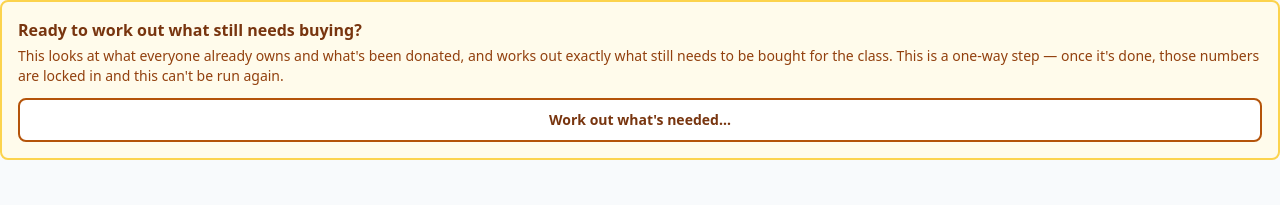
ReconcileAction › shows a clear message on the already-reconciled 409, and doesn't call onReconciled
What coordinates should you click on to do the following:
click the button "Work out what's needed…"
I would click on:
 (640, 120)
Its box is [18,98,1262,142].
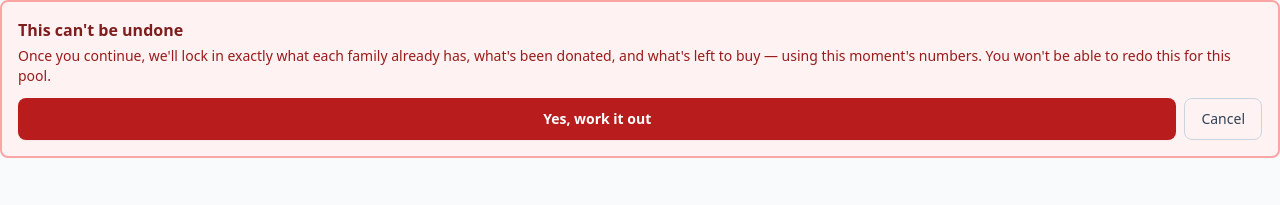
What coordinates should you click on to do the following:
click the button "Yes, work it out"
I would click on:
 (597, 119)
Its box is [18,98,1176,140].
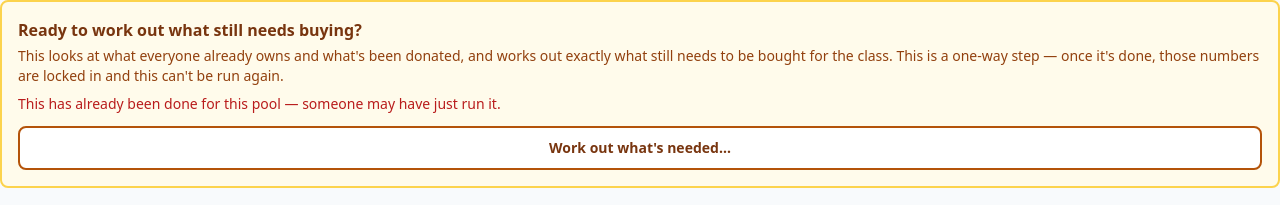
Check: the text "This has already been done for this pool — someone may have just run it." is shown, box [18,94,501,113]
